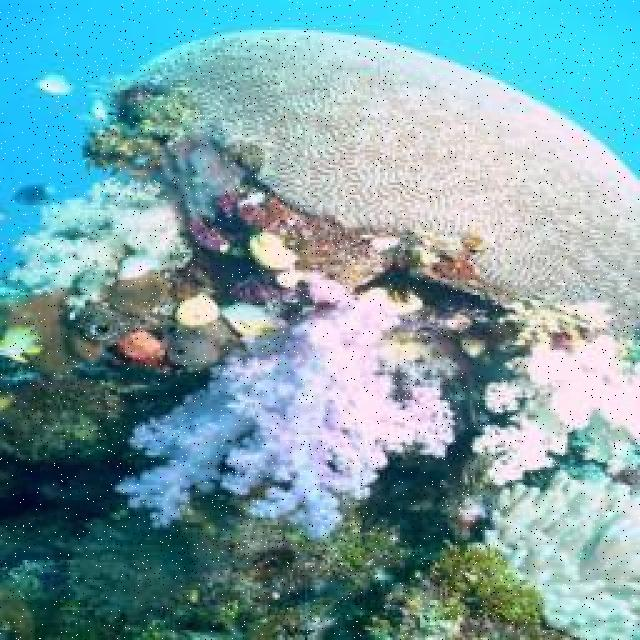fish: (0, 320, 45, 366), (117, 332, 172, 362), (31, 72, 77, 96), (11, 183, 58, 205)
reefs: (83, 30, 638, 342), (110, 270, 465, 537), (0, 181, 192, 343), (480, 467, 638, 636), (469, 338, 638, 484)
sea-floor: (0, 160, 575, 638)
